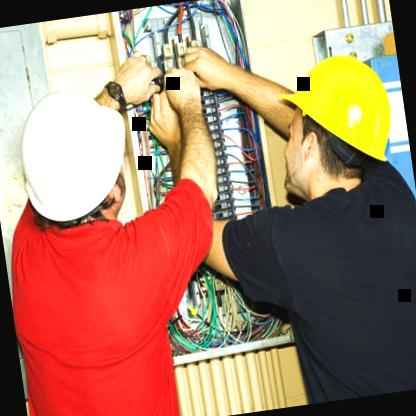helmet: (255, 22, 416, 228), (0, 63, 161, 268)
